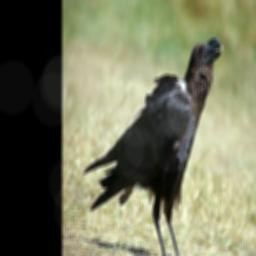Crow: (83, 36, 224, 256)
